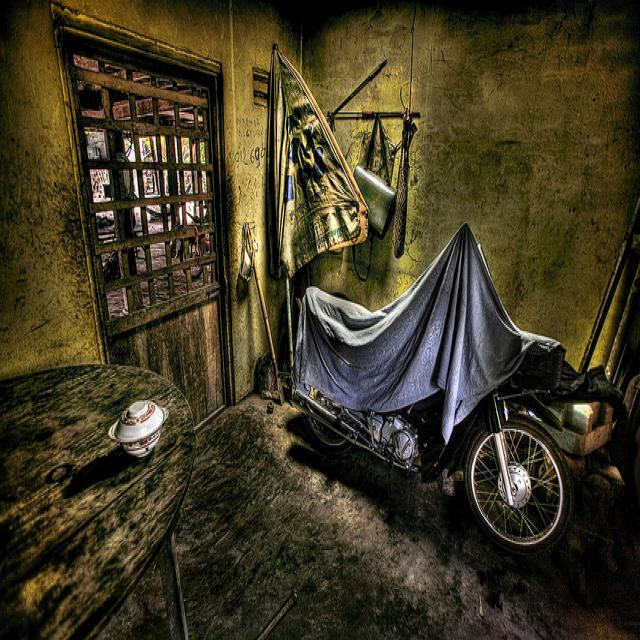motor: (290, 220, 578, 558)
